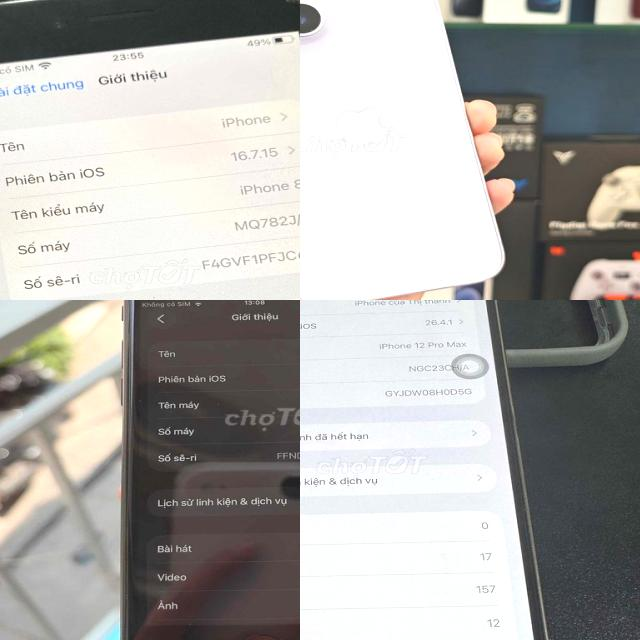physical_damage: (246, 0, 300, 19)
